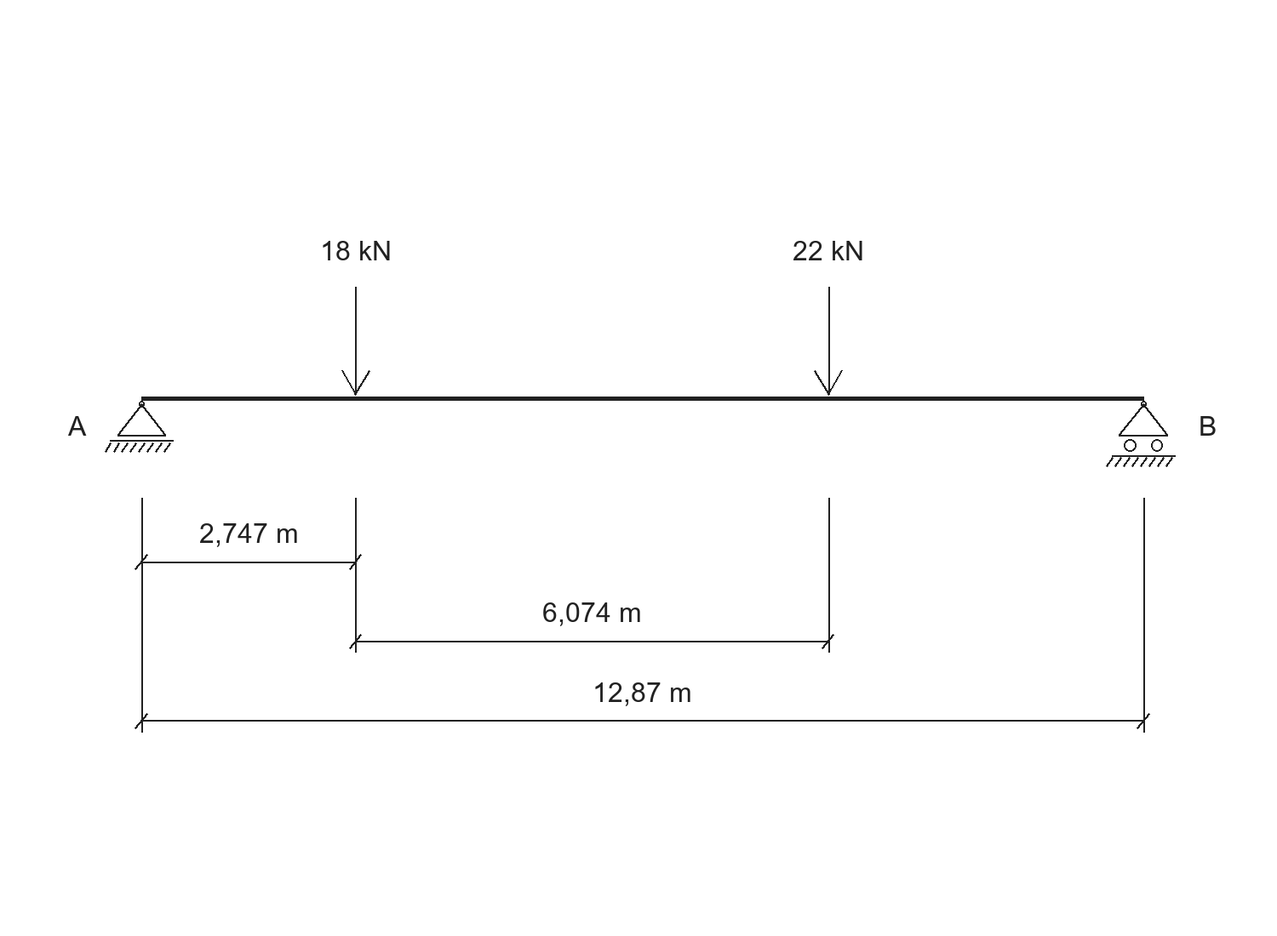pin_support: (105, 401, 174, 453)
point_load: (341, 287, 370, 396), (814, 287, 843, 396)
roller_support: (1106, 401, 1176, 467)
